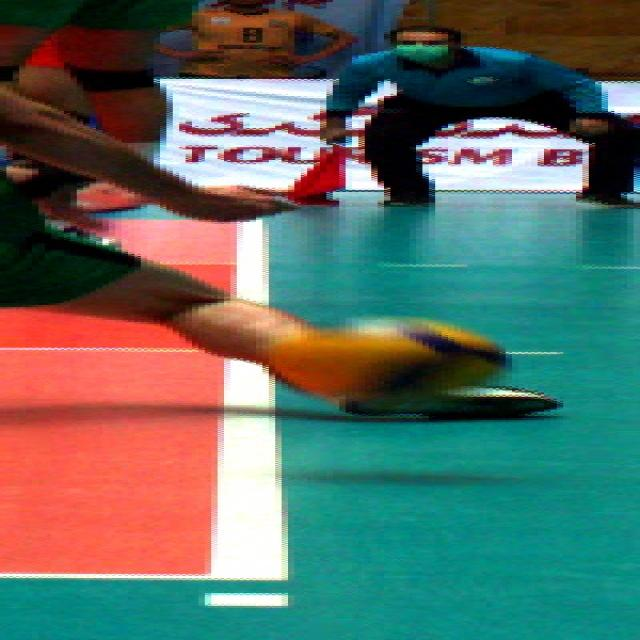Volleyball: (276, 317, 509, 396)
